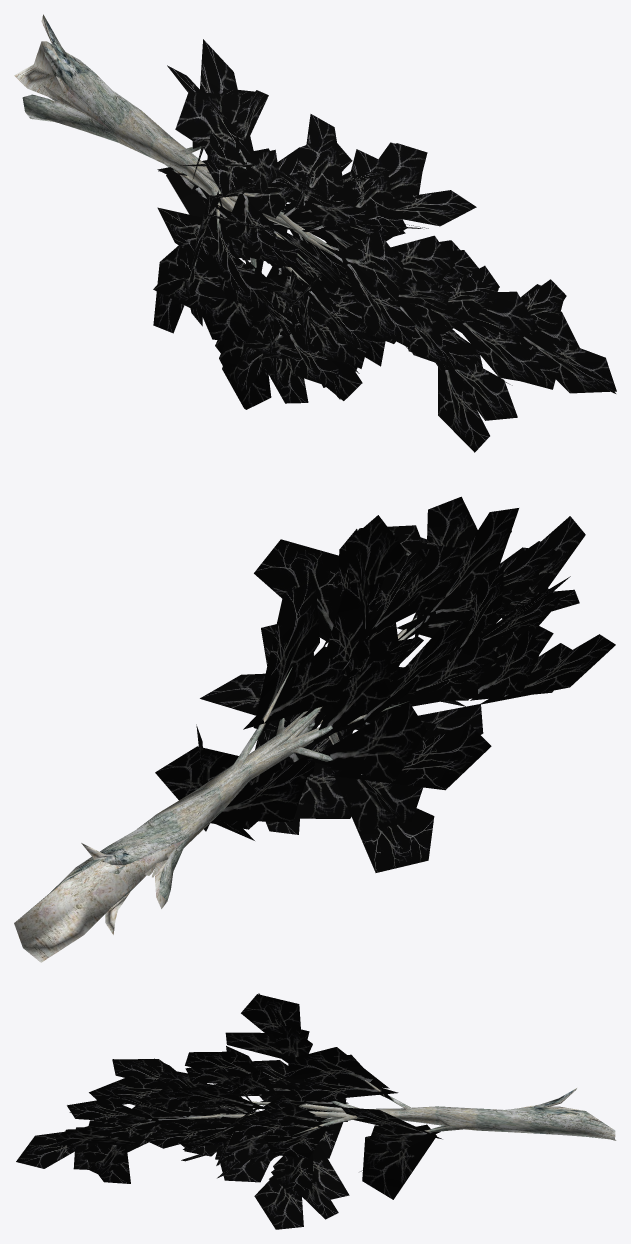
File: tree_destroyed_snow_fallen_tree_a.glb
3 renders of one model, top to bottom at view 1: azimuth 30°, elevation 25°; view 2: azimuth 150°, elevation 25°; view 3: azimuth 270°, elevation 25°, orthographic. The views are drawn at different scales.
Size of the model in its own units: 105 by 122 by 329.
Materials: 2 (2 with a texture image).
